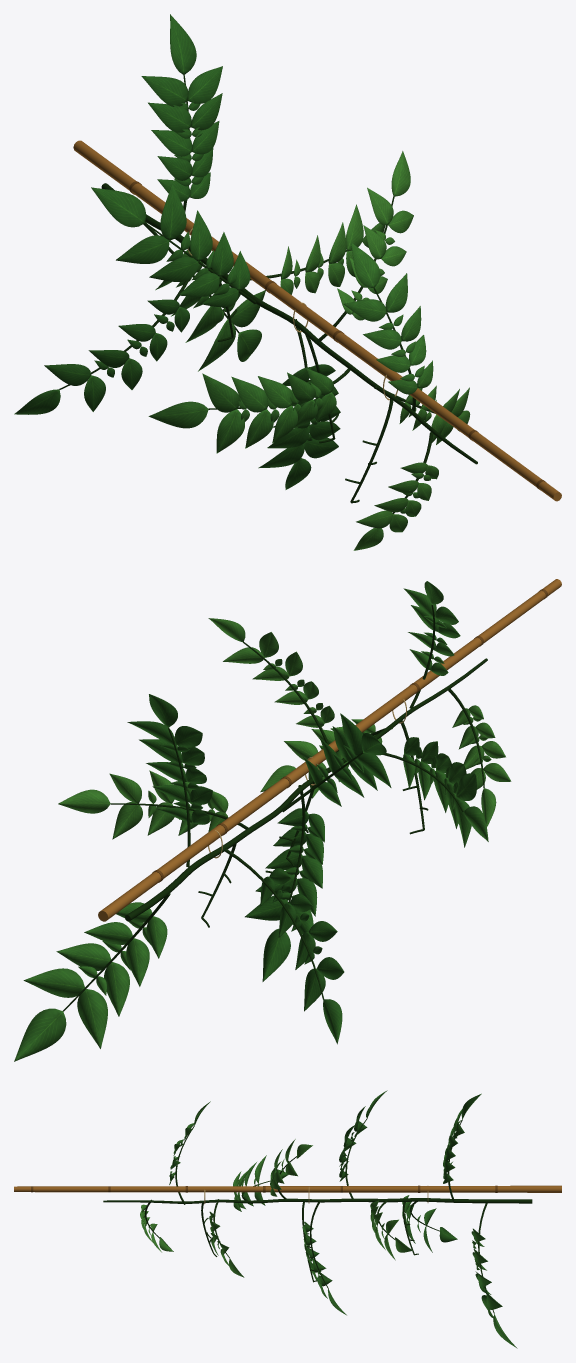
File: tomato_plant_b.obj
The picture shows the model from 3 angles, top to bottom: view 1: azimuth 30°, elevation 25°; view 2: azimuth 150°, elevation 25°; view 3: azimuth 270°, elevation 25°; orthographic projection. The views are drawn at different scales.
Visible parts, largest first — view 1: stake, stem, leaflet.046, leaflet.077, leaflet.019, leaflet.044, leaflet.045, leaflet.017, leaflet.018, leaflet.076, leaflet.075, leaflet.015 (+12 smaller); view 2: stake, stem, leaflet.008, leaflet.007, leaflet.006, leaflet.004, leaflet.057, leaflet.005, leaflet.037, leaflet.003, leaflet.002, leaflet.036 (+4 smaller); view 3: stake, stem.
Part boxes in pixels (<box>): stake: <box>73,140,561,501</box>; stem: <box>101,183,477,464</box>; leaflet.046: <box>91,187,146,227</box>; leaflet.077: <box>148,401,208,428</box>; leaflet.019: <box>170,14,196,74</box>; leaflet.044: <box>116,235,169,263</box>; leaflet.045: <box>160,184,186,240</box>; leaflet.017: <box>141,76,188,106</box>; leaflet.018: <box>187,66,222,103</box>; leaflet.076: <box>202,373,240,412</box>; leaflet.075: <box>216,409,244,453</box>; leaflet.015: <box>148,102,191,132</box>; stake: <box>98,579,561,921</box>; stem: <box>125,658,487,921</box>; leaflet.008: <box>14,1008,66,1061</box>; leaflet.007: <box>77,989,107,1048</box>; leaflet.006: <box>23,968,84,997</box>; leaflet.004: <box>56,943,110,970</box>; leaflet.057: <box>262,928,290,981</box>; leaflet.005: <box>104,962,129,1016</box>; leaflet.037: <box>58,789,110,813</box>; leaflet.003: <box>126,938,149,986</box>; leaflet.002: <box>84,922,132,944</box>; leaflet.036: <box>112,802,142,839</box>; stake: <box>14,1185,561,1192</box>; stem: <box>103,1198,532,1203</box>.
Bounding box in the file's own units: 0.7685 × 0.8313 × 1.84.
7 materials, 3 textured.
